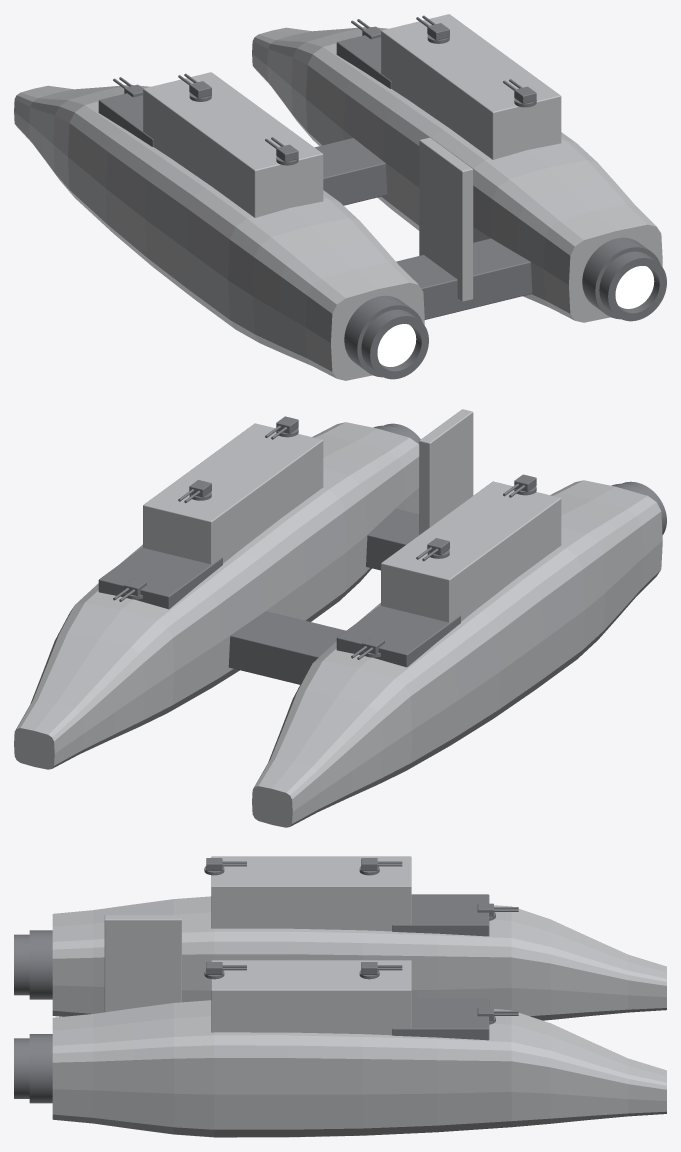
File: manta_ray.glb
3 views of the same model, one above another, from view 1: azimuth 30°, elevation 25°; view 2: azimuth 150°, elevation 25°; view 3: azimuth 270°, elevation 25° (orthographic). The views are drawn at different scales.
Visible parts, largest first — view 1: manta_ray_hull; view 2: manta_ray_hull; view 3: manta_ray_hull.
Part boxes in pixels (x1,y1,x2,y2): manta_ray_hull: (14,14,666,380); manta_ray_hull: (14,409,666,827); manta_ray_hull: (14,856,666,1137).
Size of the model in its own units: 274 by 128 by 485.
